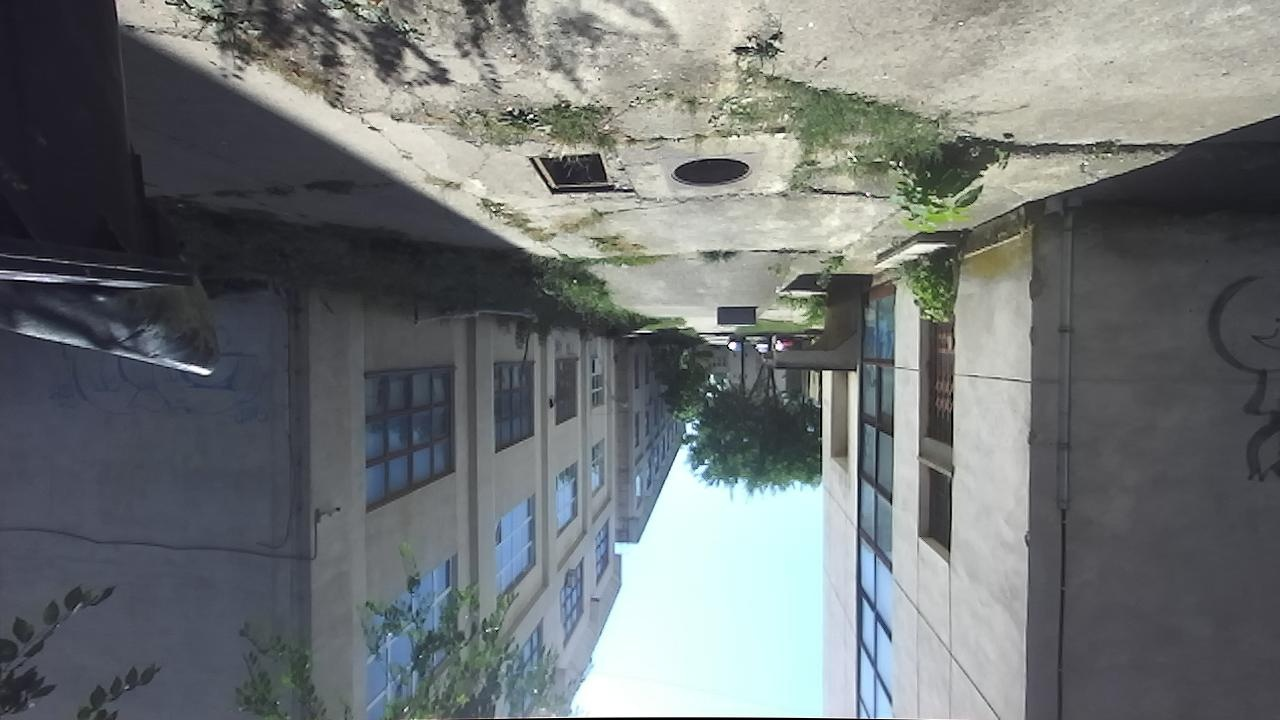drain: (522, 150, 615, 199), (666, 157, 756, 191)
